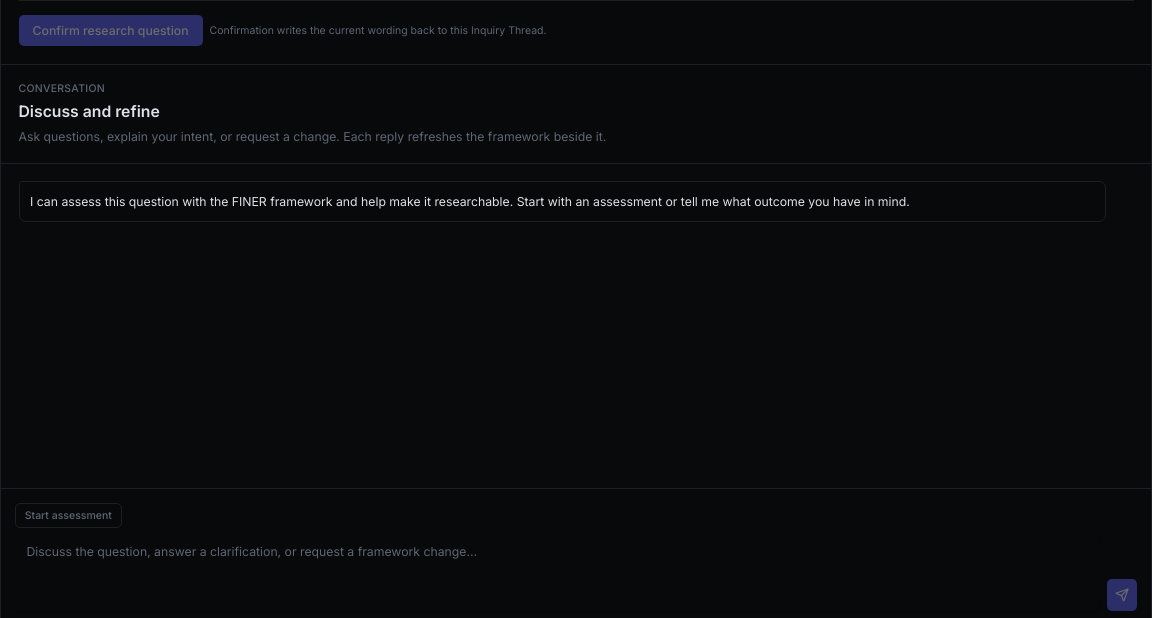
Test: QuestionRefinementPanel › keeps the conversation continuous from the server-returned session
(page scrolled)
Step 1. Click the button "Start assessment" → point(68, 516), box [15,503,122,528]
(page scrolled)
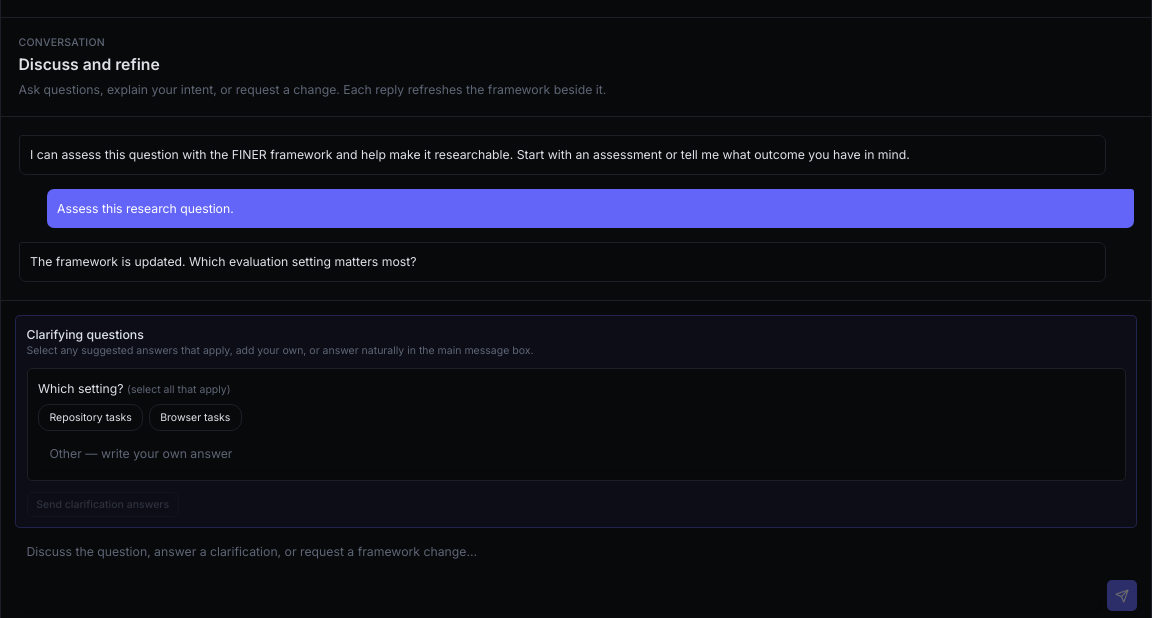
Check: the text "The framework is updated. Which evaluation setting matters most?" is shown, box [18,242,1106,282]
Step 2. Type "Focus on repository tasks" into the text box named "Message" → point(557, 573), box [15,535,1100,611]
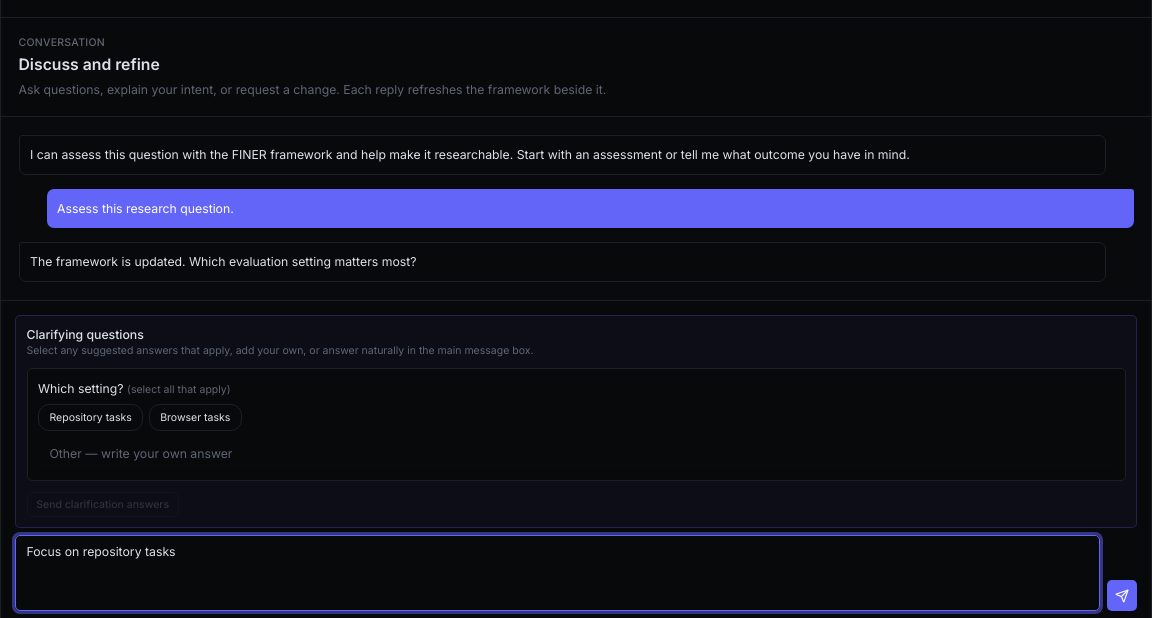
Step 3. Click the button named "Send message" → point(1122, 596), box [1107,580,1137,611]
(page scrolled)
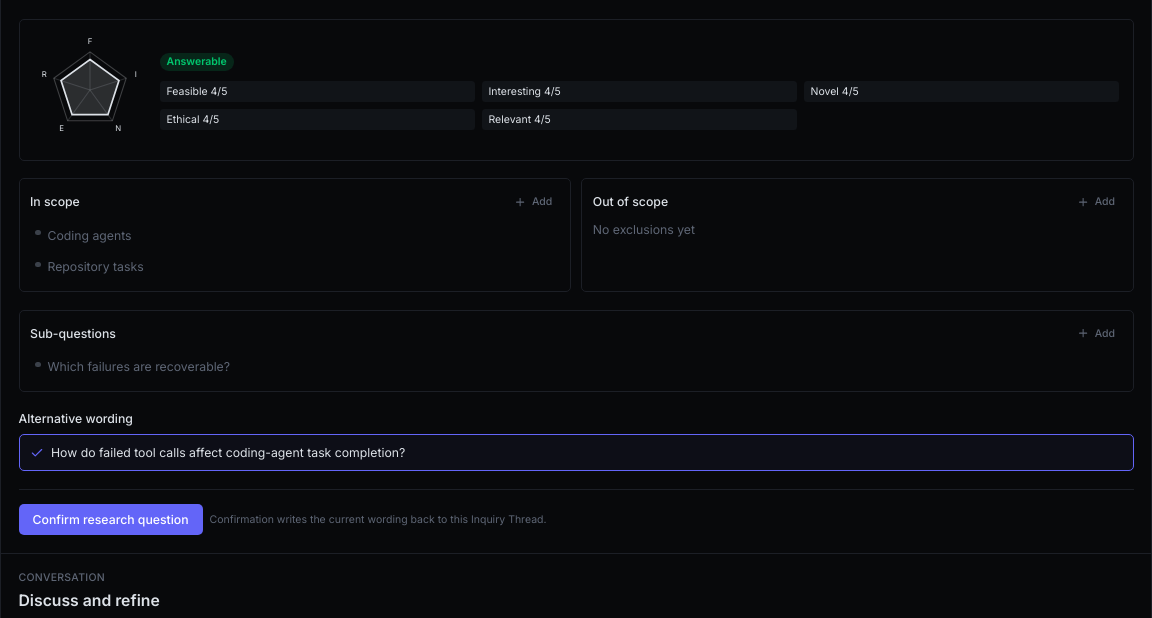
Check: the text "Repository tasks" is shown, box [48,259,144,274]
